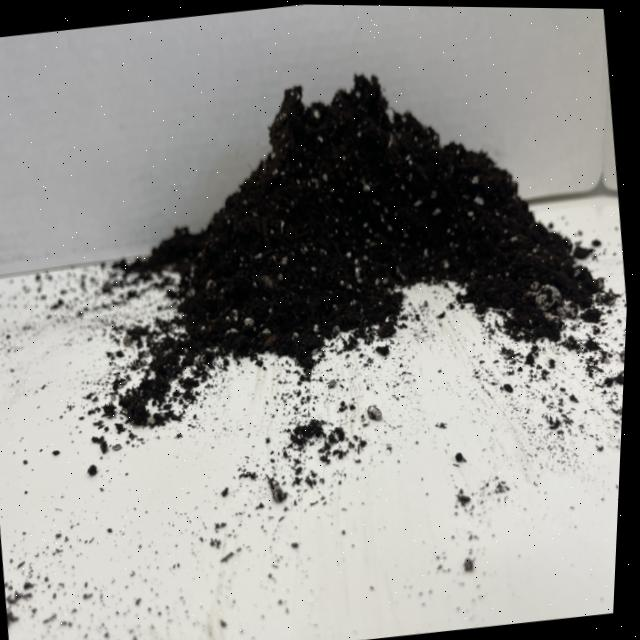soil: (73, 36, 636, 442)
